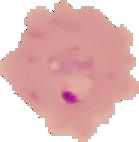parasitized: (46, 42, 105, 109)
